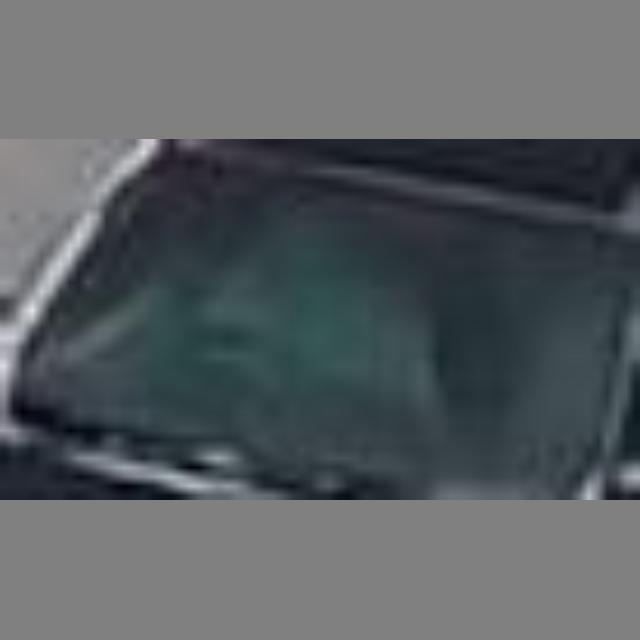tidak-pakai: (186, 204, 454, 436)
